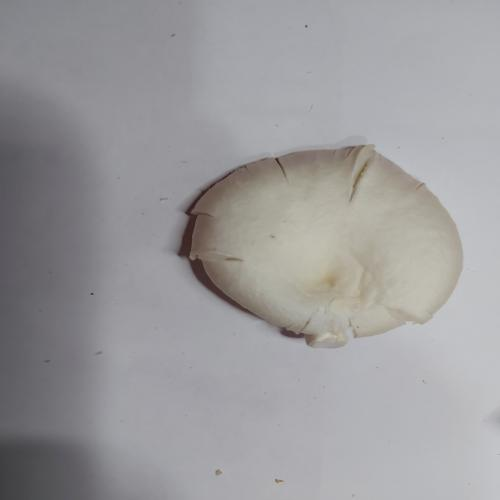Oyster Mushroom: (187, 143, 465, 349)
